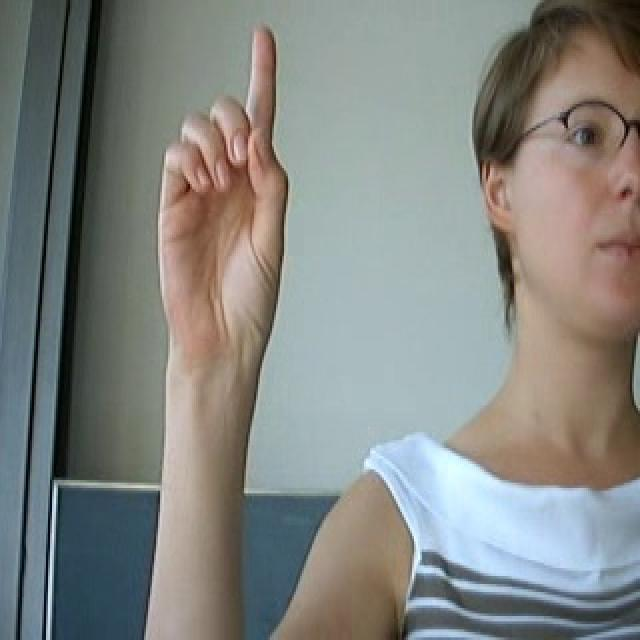D: (128, 0, 308, 392)
